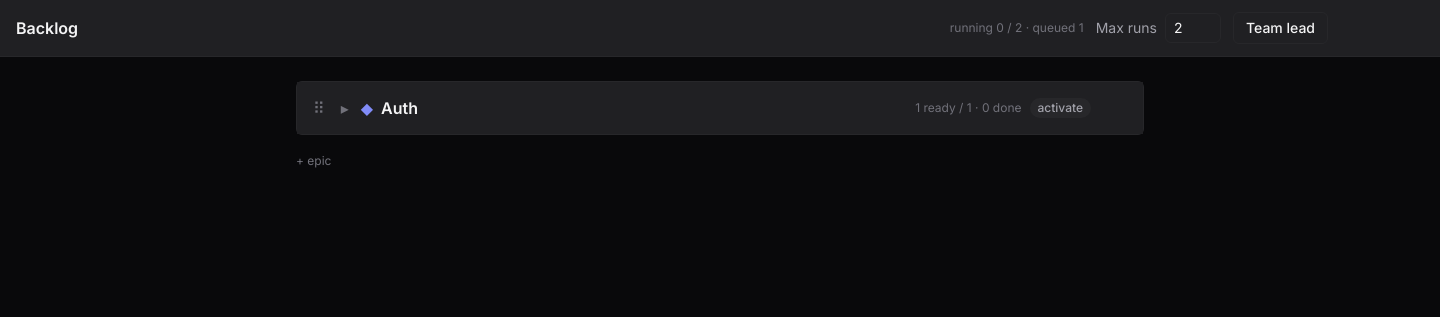
BacklogPage › renders the epic tree (epic + nested feature + task on expand)
This screenshot has width=1440, height=317.
Check: the text "Auth" is shown, box [381,98,418,118]
Check: the text "running 0 / 2 · queued 1" is shown, box [950,20,1084,36]
Step 1. Click the button named "expand" → (345,108), box [337,96,353,120]
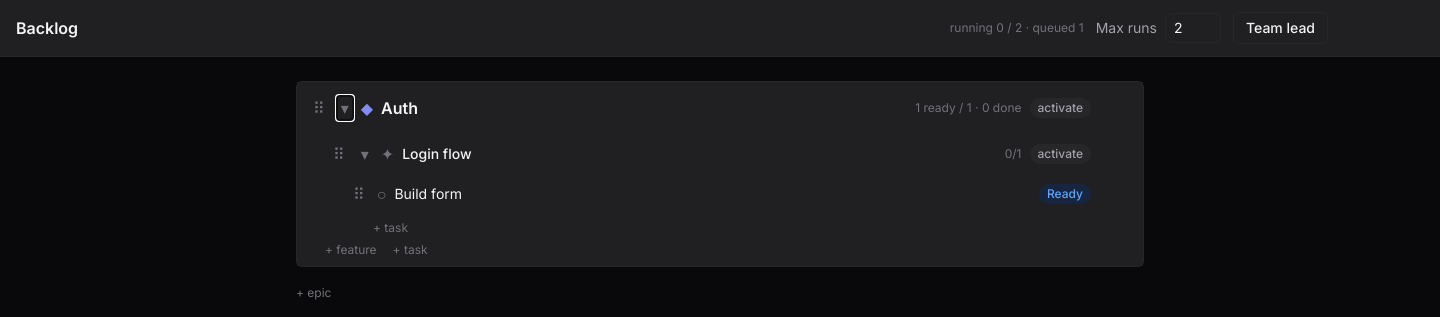
Check: the text "Login flow" is shown, box [402,145,472,162]
Check: the text "Build form" is shown, box [394,185,462,202]
